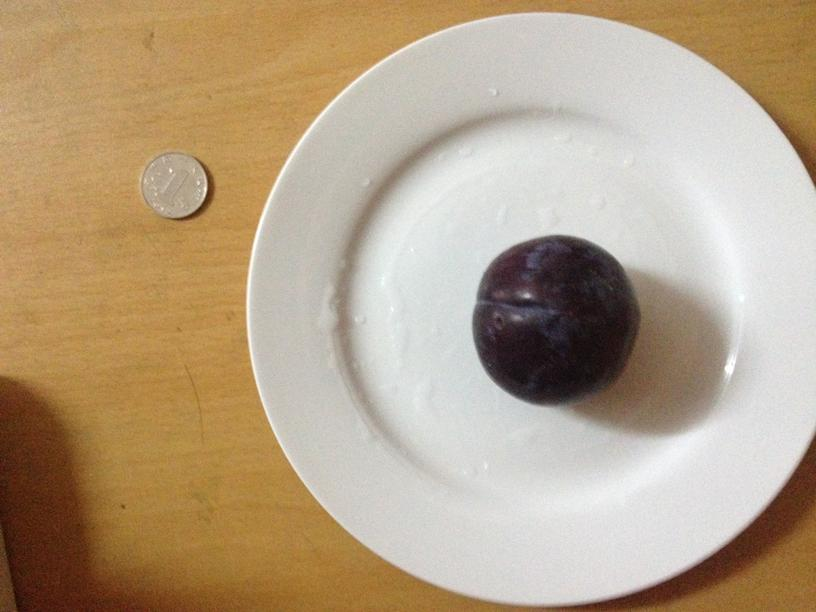coin: (142, 151, 213, 220)
plum: (460, 231, 638, 404)
